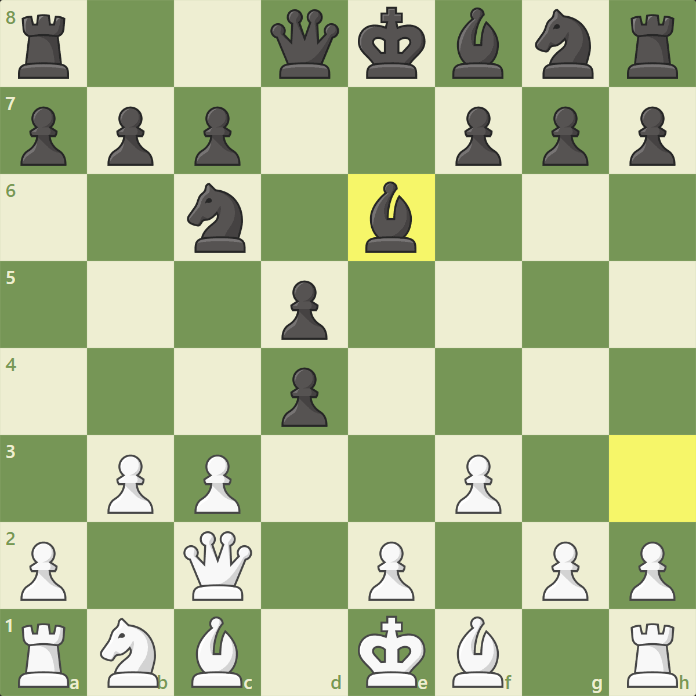B: (450, 615, 507, 691), (189, 615, 245, 690)
K: (356, 616, 428, 690)
N: (97, 616, 162, 691)
P: (15, 539, 68, 604), (105, 452, 158, 517), (192, 452, 245, 517), (362, 538, 415, 603), (452, 452, 505, 517), (537, 539, 590, 604), (626, 538, 679, 603)
Q: (181, 528, 255, 604)
R: (625, 623, 683, 691), (16, 621, 72, 690)
b: (361, 180, 419, 255), (449, 6, 506, 81)
k: (355, 5, 427, 83)
n: (185, 182, 248, 256), (533, 7, 595, 82)
p: (279, 366, 331, 429), (278, 279, 330, 342), (191, 106, 243, 169), (104, 106, 156, 169), (17, 106, 69, 169), (452, 107, 504, 170), (540, 106, 592, 169), (627, 105, 679, 168)
q: (269, 8, 341, 81)
r: (623, 12, 681, 83), (16, 12, 71, 82)
